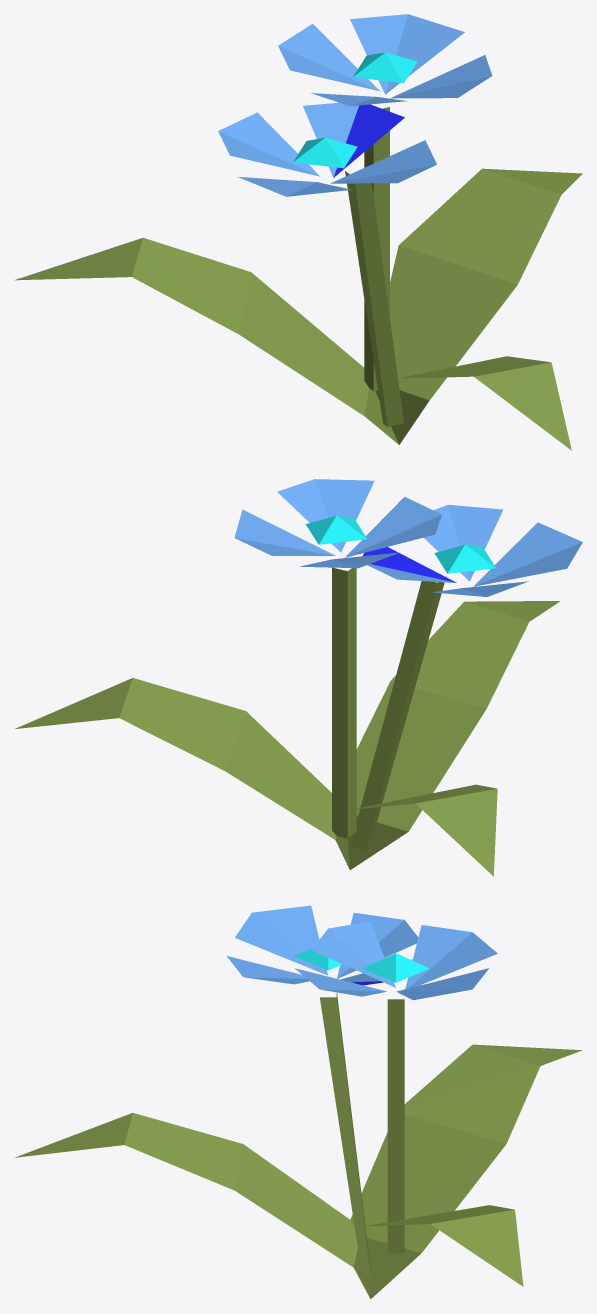
3 views of the same model, one above another, from view 1: azimuth 30°, elevation 25°; view 2: azimuth 150°, elevation 25°; view 3: azimuth 270°, elevation 25° (orthographic). The views are drawn at different scales.
Size of the model in its own units: 66 by 45 by 67.
1 material, 1 textured.
